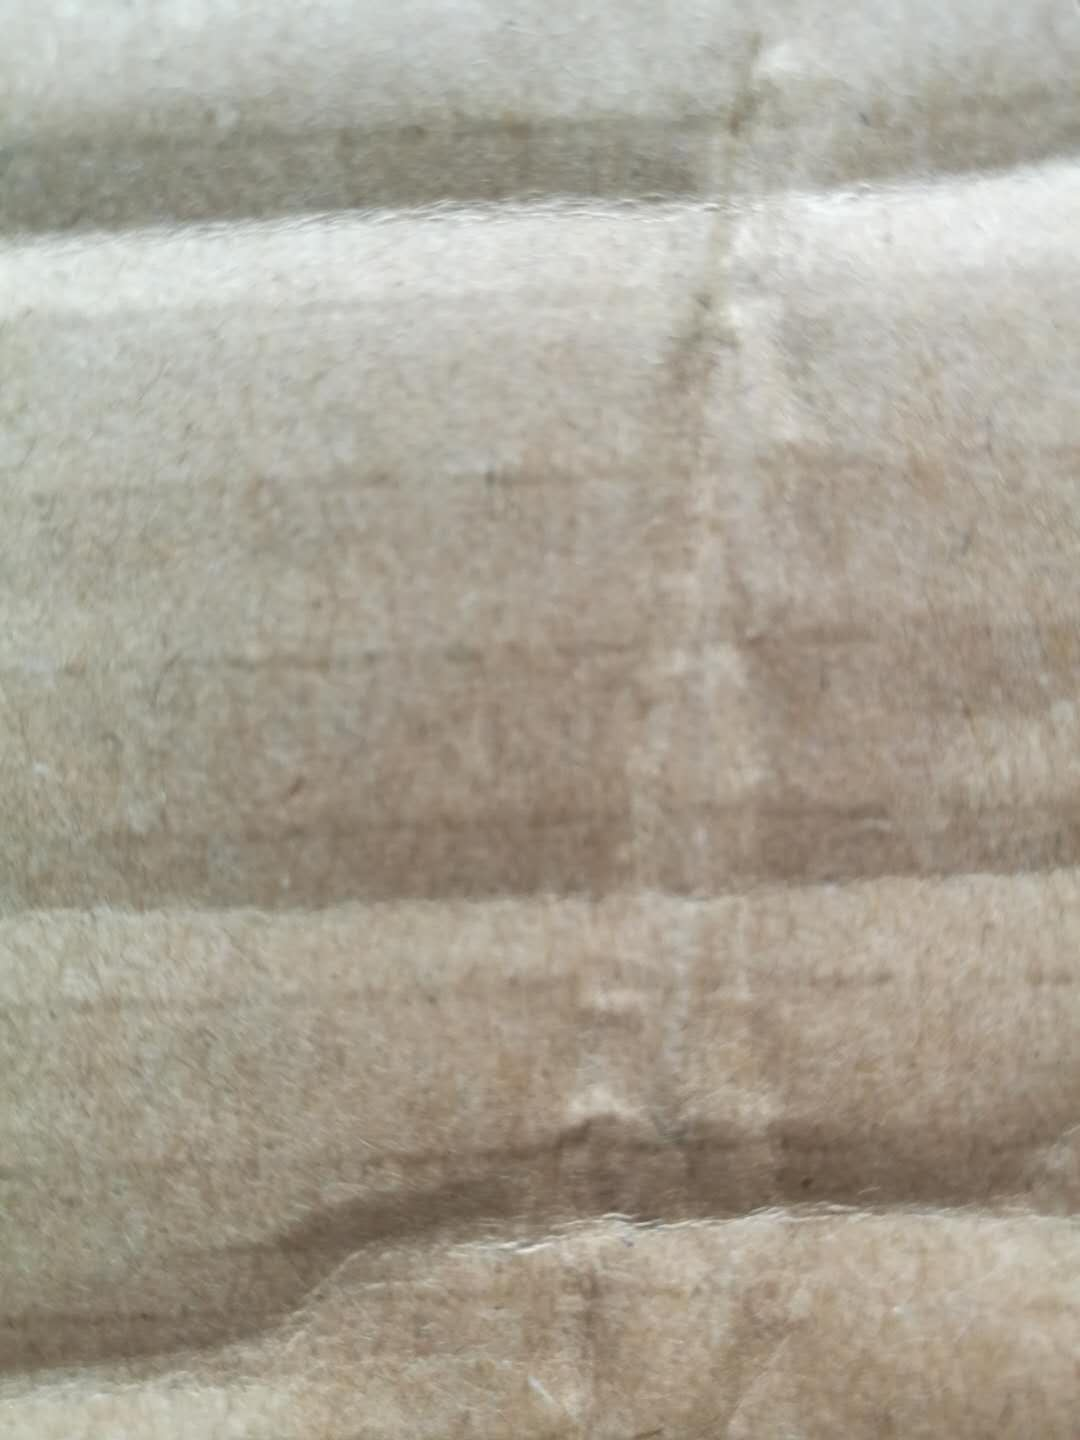defect: (479, 1, 981, 1440), (3, 1061, 1080, 1401), (2, 53, 1080, 329), (1, 772, 1080, 993)
